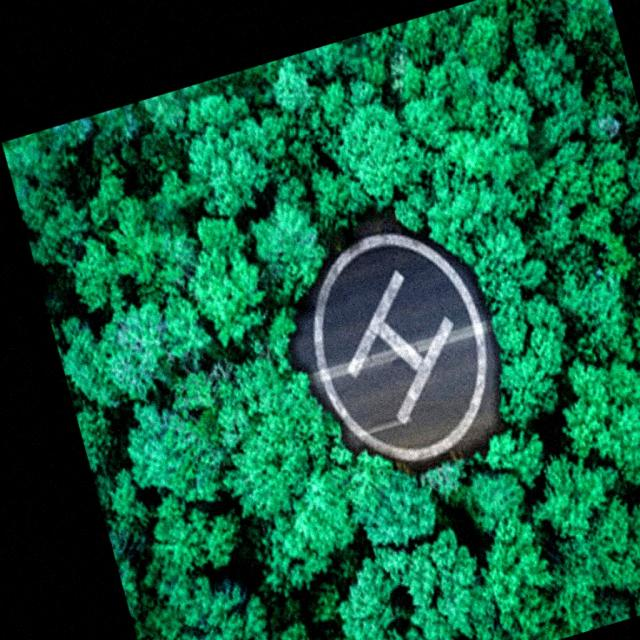helipad: (305, 228, 493, 466)
